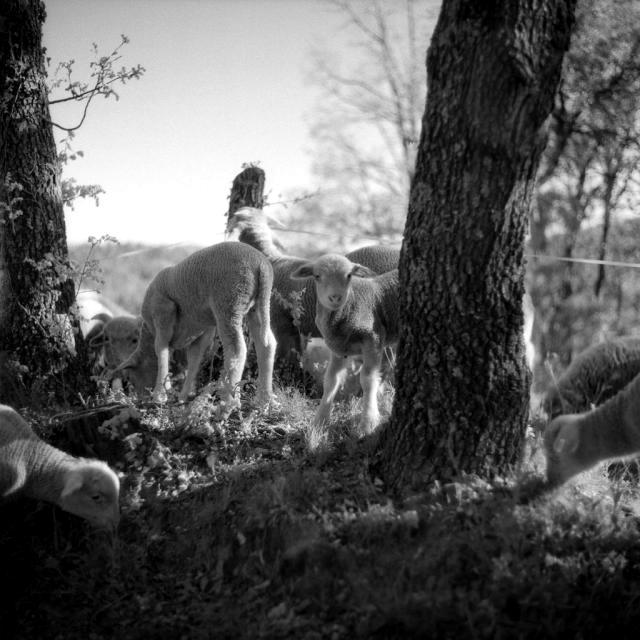sheep: (297, 260, 398, 433)
